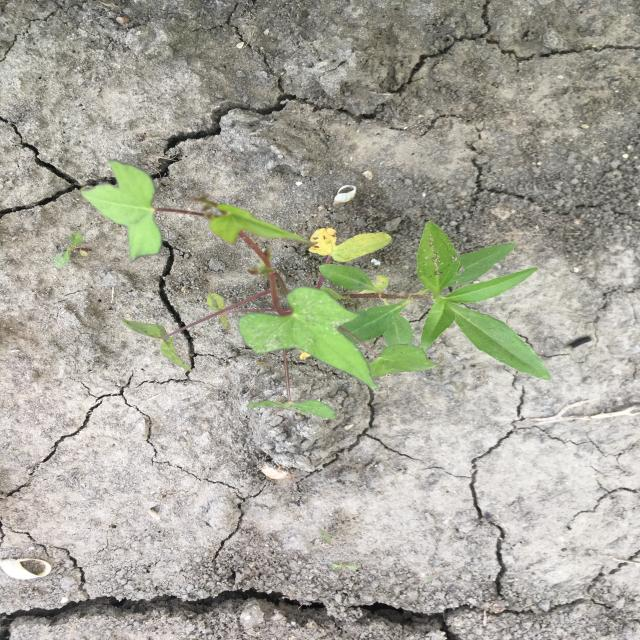Eclipta: (316, 219, 553, 383)
MorningGlory: (79, 158, 393, 423)
